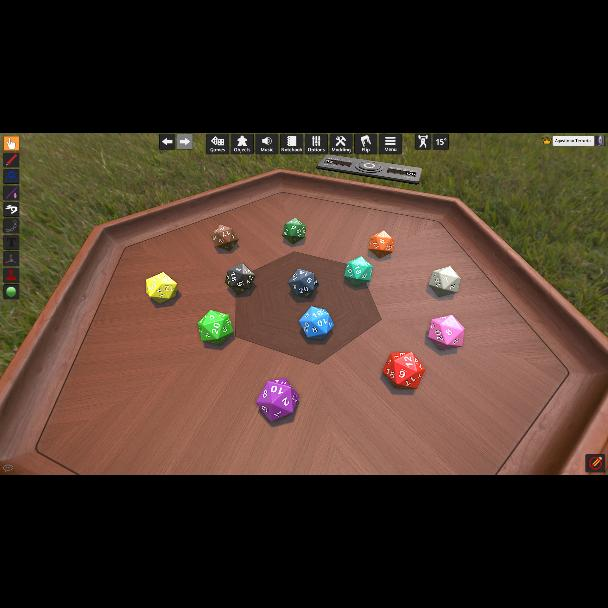d20: (256, 378, 300, 420), (382, 352, 420, 390), (428, 314, 464, 350), (298, 306, 332, 340), (199, 310, 231, 344), (146, 272, 178, 304), (428, 266, 460, 298), (288, 268, 319, 298), (224, 264, 254, 294), (344, 257, 370, 287), (212, 225, 238, 251), (369, 230, 393, 258), (282, 219, 306, 245)
